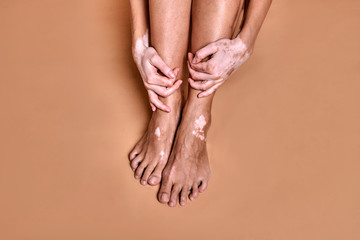vitiligo: (134, 32, 231, 98), (190, 109, 211, 143)
